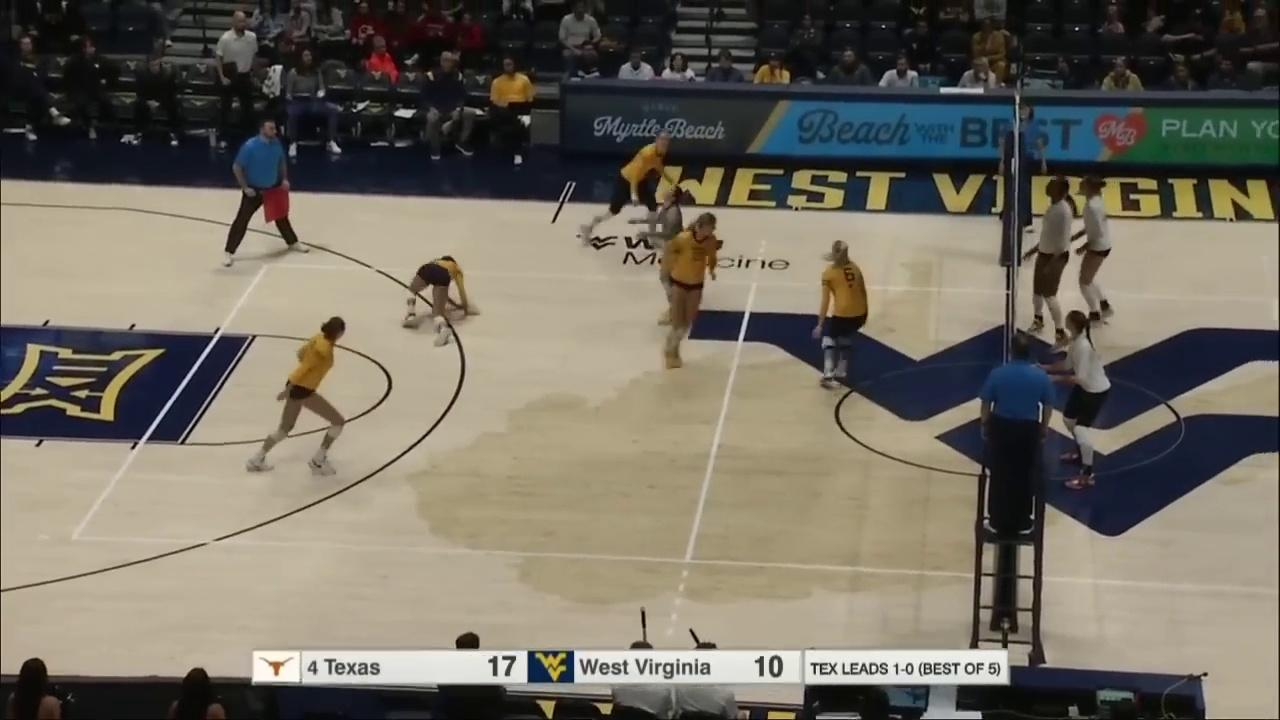player: (248, 315, 345, 475), (575, 131, 671, 248), (1055, 311, 1111, 490), (663, 213, 718, 372), (1025, 177, 1073, 351), (814, 240, 867, 391), (634, 187, 688, 322), (1068, 175, 1115, 328), (406, 255, 479, 345)
refree: (977, 331, 1052, 537), (221, 119, 308, 268), (1001, 104, 1049, 234)
